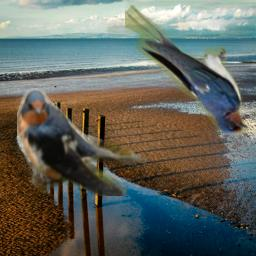Swallow: (125, 5, 249, 135), (17, 88, 147, 196)
